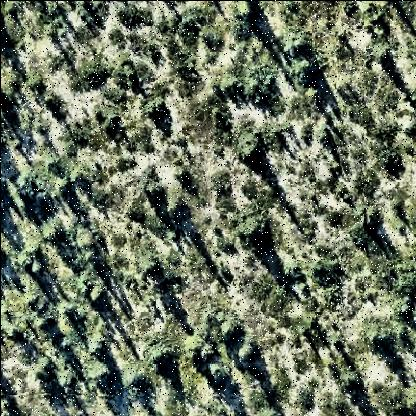tree-top: (236, 213, 274, 249), (233, 138, 267, 167), (80, 362, 114, 391), (290, 56, 319, 88), (183, 337, 214, 366), (333, 369, 367, 395), (368, 326, 395, 355), (149, 343, 175, 372), (233, 340, 258, 369), (142, 173, 166, 203), (83, 280, 107, 310), (119, 370, 145, 395), (147, 97, 171, 123), (170, 164, 196, 188), (41, 223, 65, 248), (143, 258, 167, 283), (363, 210, 385, 234), (218, 319, 239, 343), (370, 47, 390, 69), (238, 4, 259, 24), (53, 370, 74, 390)
